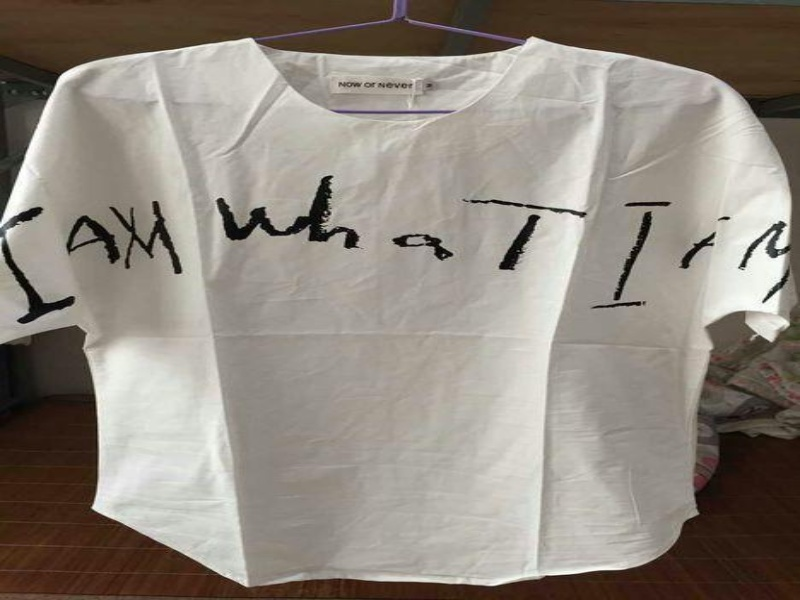short_sleeved_shirt: (0, 33, 797, 591)
